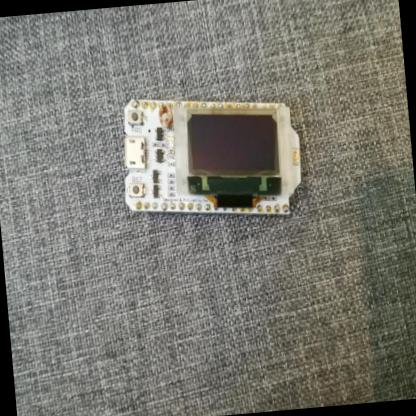Heltec_ESP32_Lora: (116, 83, 309, 236)
